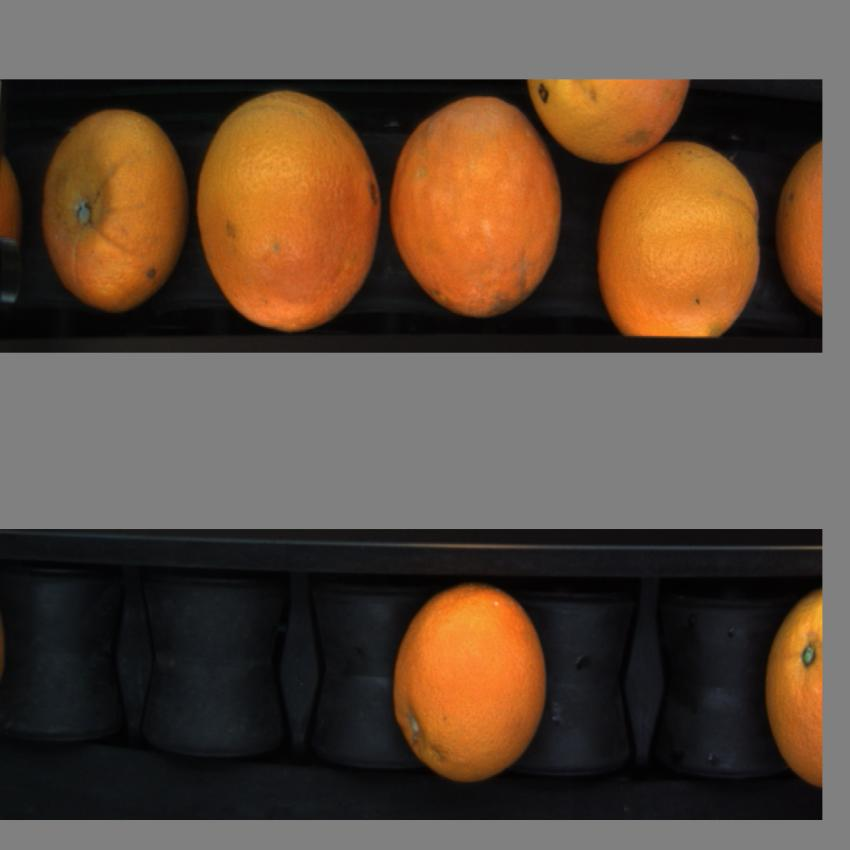Buen estado: (195, 90, 384, 338), (389, 86, 565, 346), (597, 134, 761, 386), (386, 569, 552, 802), (522, 76, 698, 180), (762, 574, 822, 822), (774, 126, 822, 341)
Mal estado: (35, 98, 187, 332)
